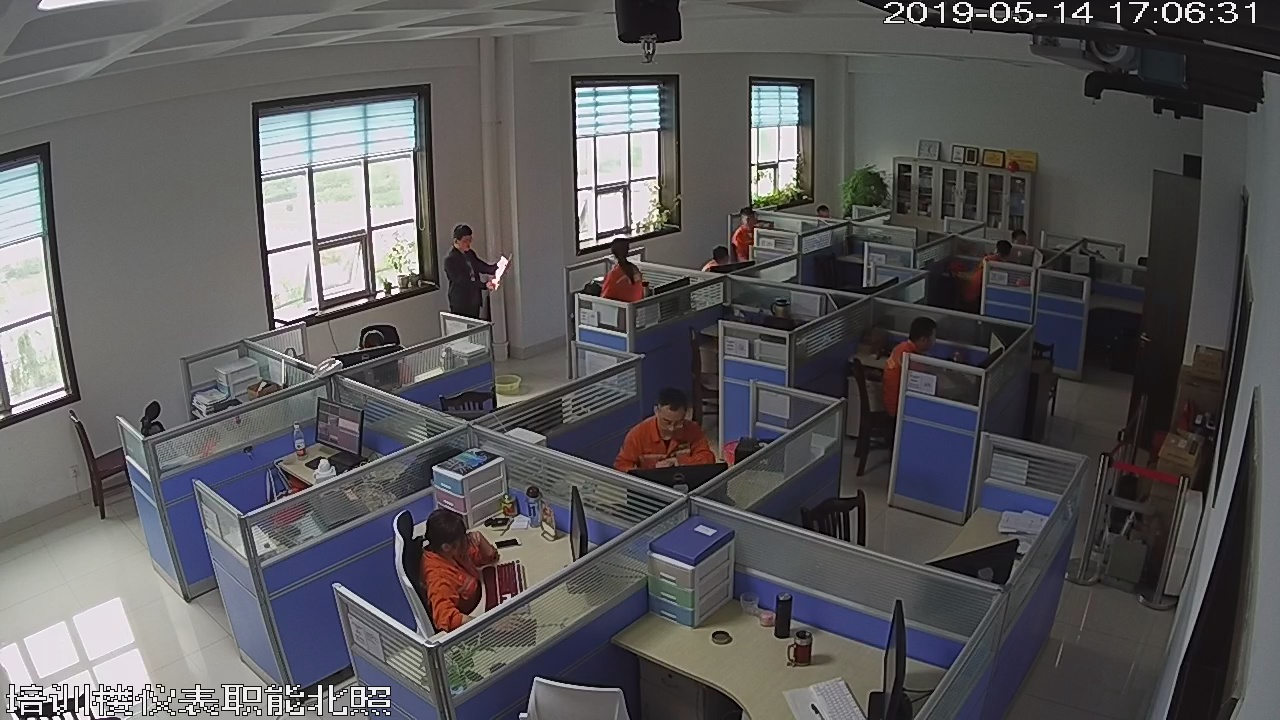fire: (488, 252, 514, 291)
